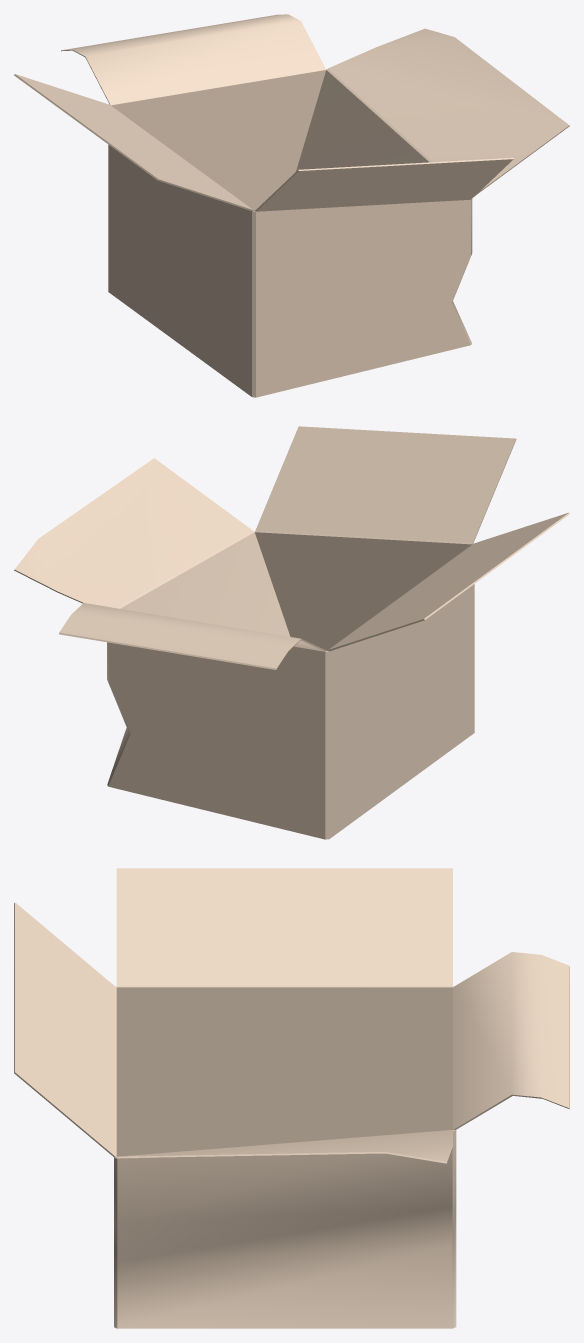
3 renders of one model, top to bottom at view 1: azimuth 30°, elevation 25°; view 2: azimuth 150°, elevation 25°; view 3: azimuth 270°, elevation 25°, orthographic. The views are drawn at different scales.
Parts seen in each view (by area): view 1: boxe; view 2: boxe; view 3: boxe.
Boxes of the visible parts, box(x1,y1,x2,y2) form: boxe: box(14, 14, 569, 397); boxe: box(14, 426, 569, 839); boxe: box(14, 868, 569, 1328).
Bounding box in the file's own units: 100 × 60 × 100.
